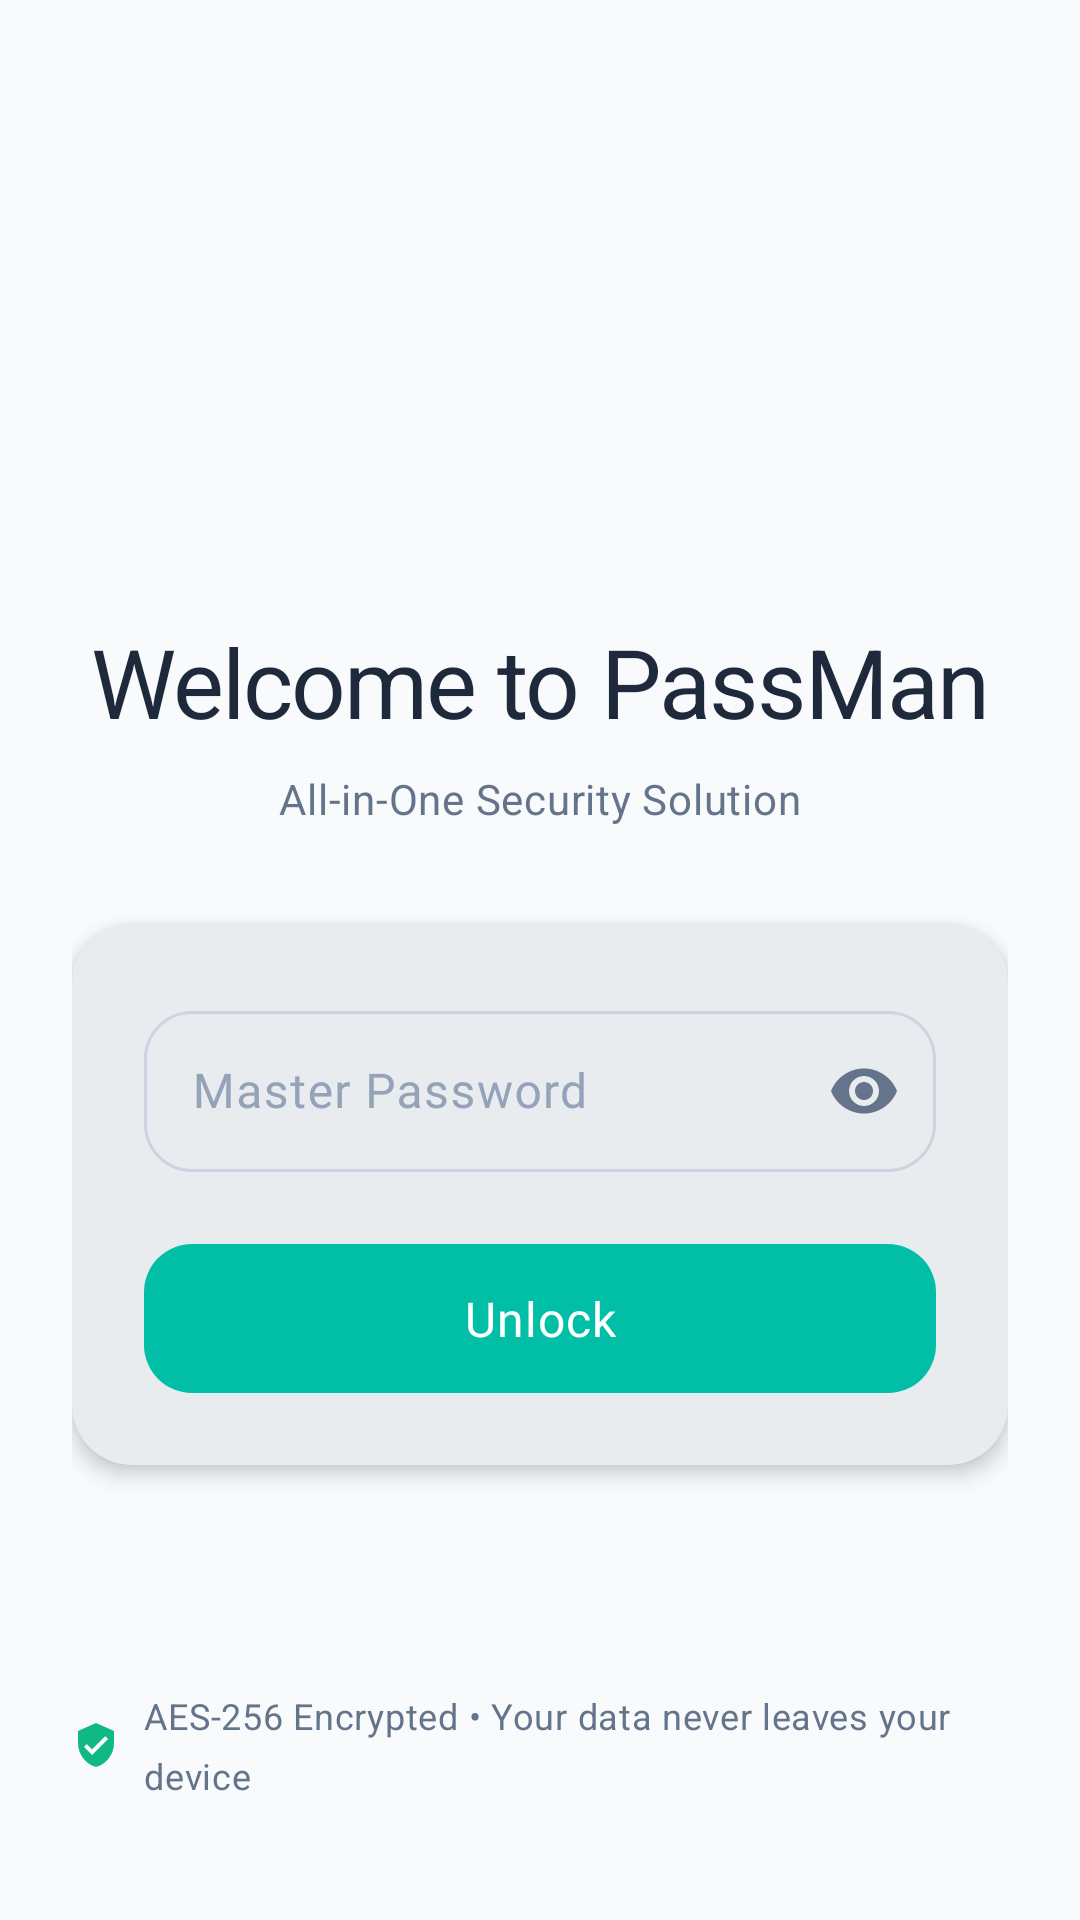

Icon bounding boxes for this 1080 x 1920 phone screenshot, format rect(x1, y1, x2, y2):
shield check: rect(78, 1723, 114, 1767)
